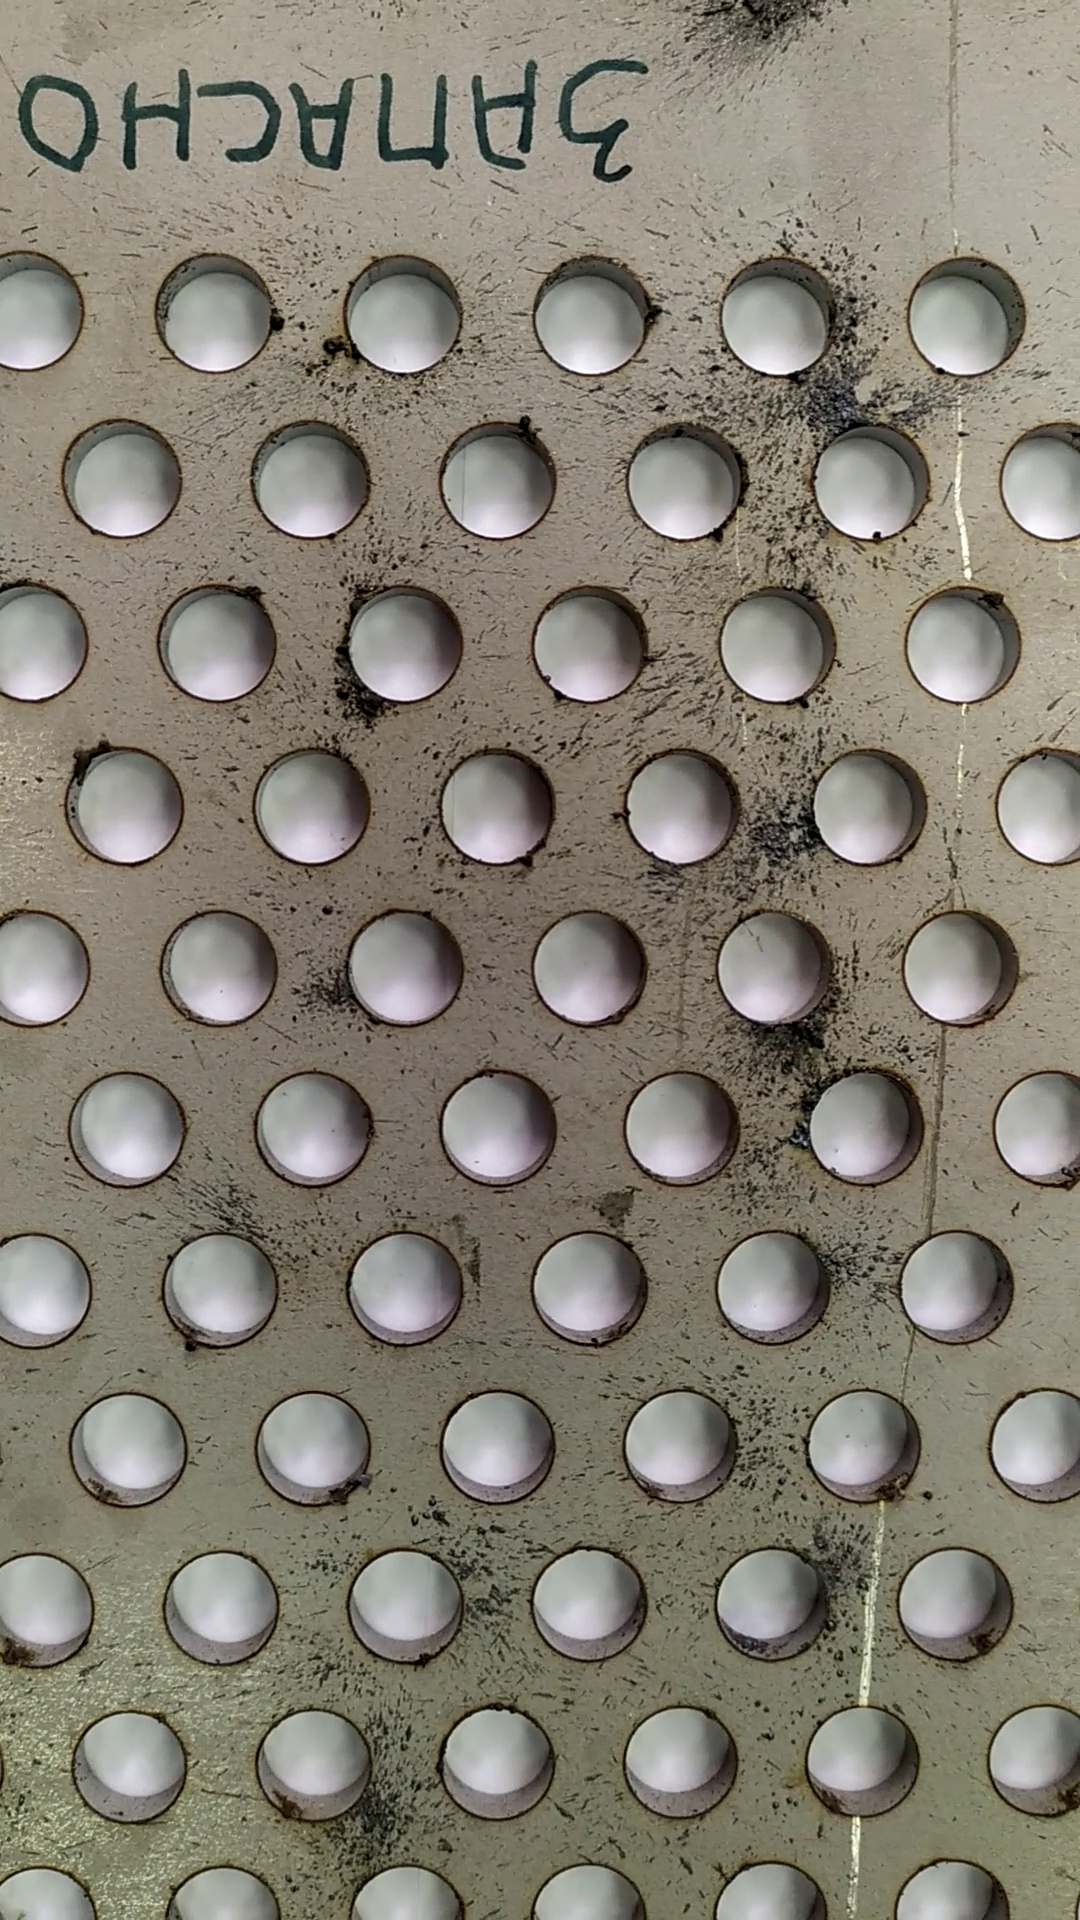Hole: (136, 240, 289, 385), (142, 1217, 298, 1360), (425, 1370, 567, 1515), (59, 1377, 204, 1516), (426, 1052, 567, 1195), (336, 1220, 481, 1358), (429, 411, 574, 549), (700, 1213, 836, 1360), (241, 1379, 392, 1509), (708, 575, 847, 715), (518, 1218, 655, 1358), (520, 1530, 655, 1671), (895, 248, 1034, 385), (894, 578, 1033, 715), (524, 899, 661, 1038), (798, 1373, 942, 1505), (889, 1540, 1026, 1677), (524, 248, 665, 381), (57, 735, 189, 877), (330, 578, 471, 709), (802, 1054, 934, 1195), (57, 1062, 200, 1191), (527, 575, 663, 711), (330, 244, 467, 378), (153, 899, 287, 1036), (338, 1532, 471, 1671), (611, 417, 753, 546), (704, 1540, 841, 1673), (887, 1218, 1021, 1354), (245, 1695, 382, 1826), (708, 903, 841, 1038), (891, 901, 1030, 1030), (240, 1062, 382, 1187), (245, 738, 377, 873), (55, 411, 191, 542), (153, 1544, 294, 1669), (802, 740, 936, 870), (434, 1698, 571, 1826), (612, 1060, 752, 1185), (149, 579, 285, 707), (615, 735, 742, 870), (434, 738, 563, 872), (63, 1702, 200, 1828), (611, 1697, 741, 1828), (247, 411, 375, 545), (705, 251, 840, 377), (616, 1375, 740, 1513), (798, 1697, 930, 1824), (800, 413, 930, 541), (343, 901, 465, 1030)
